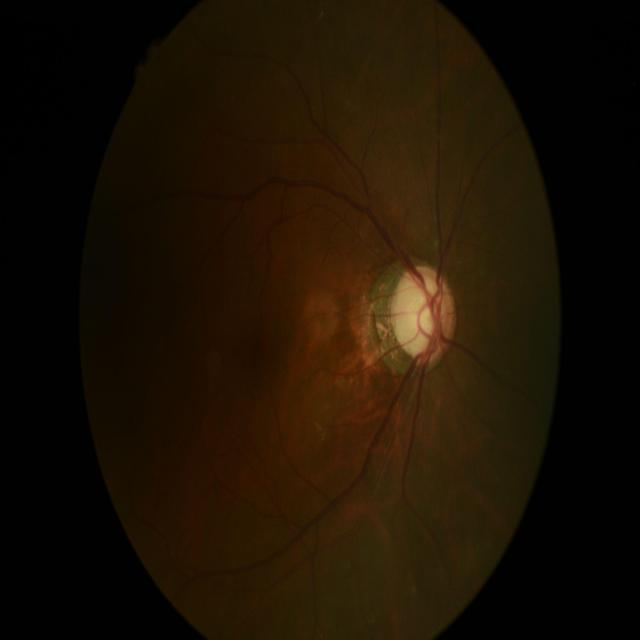cup: (398, 282, 442, 354)
disk: (392, 266, 457, 370)
